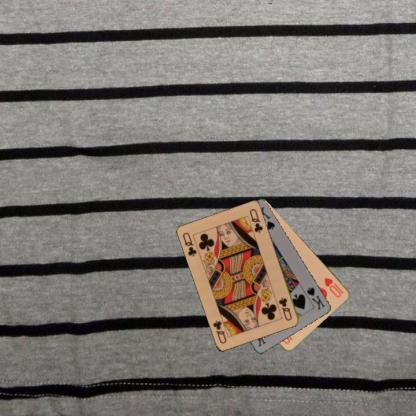10h: (322, 275, 345, 299)
Ks: (304, 284, 326, 312)
Qc: (180, 230, 198, 258), (276, 295, 294, 322)
